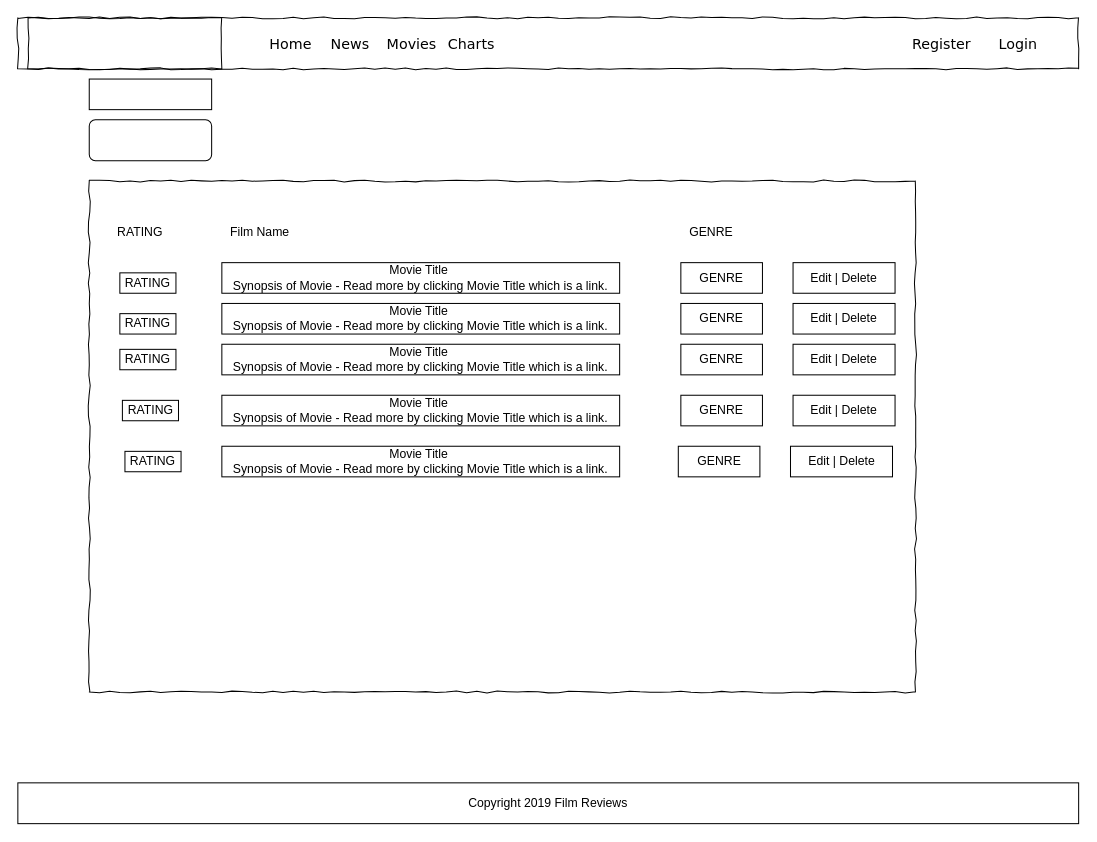
Some shapes in this 1097 by 842 pixel diagram are drawn without their labels. Each missing label, with the centre of its shape:
"Create New" goes at (x=150, y=140).
"Film Review" goes at (x=124, y=43).
"Films" goes at (x=150, y=94).
